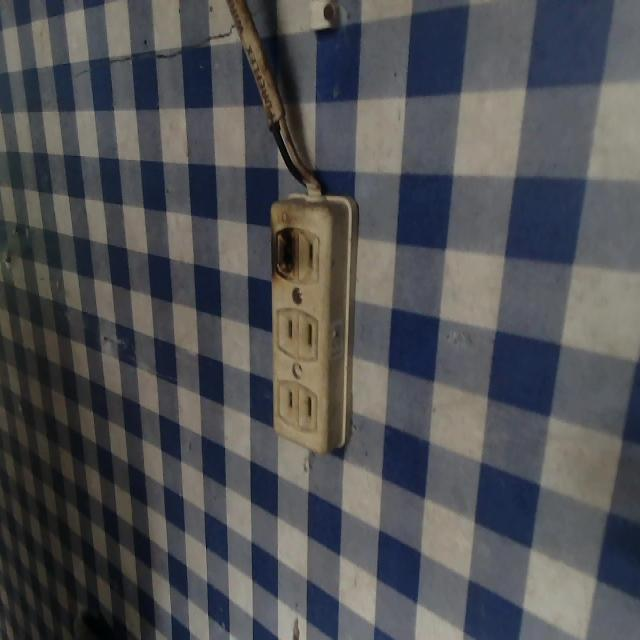-: (267, 227, 301, 285)
